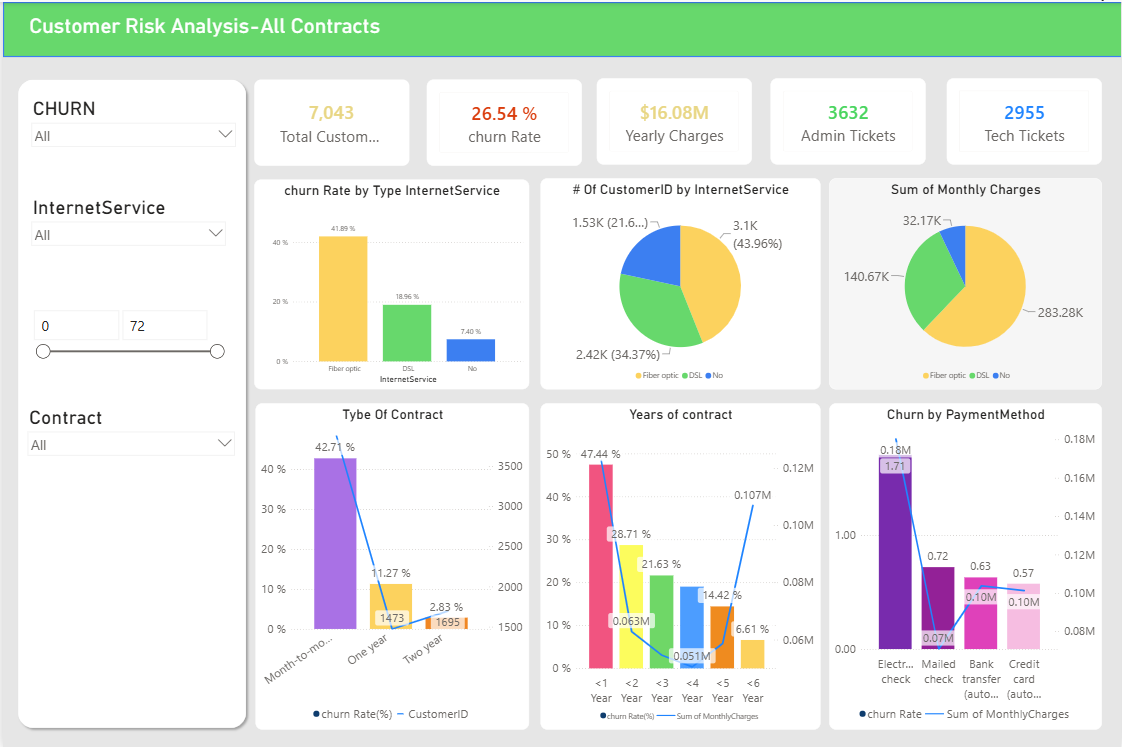

The page's visual inventory and layout, read from the dashboard file:
{"tool":"powerbi","page":{"name":"Customer Risk Analysis ","canvas":[1950,1300],"ordinal":0},"visuals":[{"type":"shape","box":[17,126.2,414.8,1147.5],"z":0},{"type":"cardVisual","fields":{"Data":["Churn-Dataset.Number of Tech Tickets"]},"box":[1644.6,132.9,270,150],"z":1000},{"type":"cardVisual","fields":{"Data":["Churn-Dataset.Total Yearly Charges"]},"box":[1034.7,132.9,270,150],"z":2000},{"type":"cardVisual","fields":{"Data":["Churn-Dataset.churn Rate(%)"]},"box":[738.4,135.1,270,150],"z":3000},{"type":"cardVisual","fields":{"Data":["Churn-Dataset.Total Customers"]},"box":[437.8,135.1,270,150],"z":4000},{"type":"cardVisual","fields":{"Data":["Churn-Dataset.Number of Admin Tickets"]},"box":[1337.5,132.9,270,150],"z":5000},{"type":"pieChart","title":"Sum of Monthly Charges          ","fields":{"Category":["Churn-Dataset.InternetService"],"Y":["Sum(Churn-Dataset.MonthlyCharges)"]},"box":[1439.9,307.1,474.9,368.1],"z":6000},{"type":"pieChart","title":"# Of CustomerID by  InternetService","fields":{"Category":["Churn-Dataset.InternetService"],"Y":["CountNonNull(Churn-Dataset.CustomerID)"]},"box":[936.7,307.1,487.9,368.1],"z":7000},{"type":"columnChart","title":"churn Rate by Type InternetService","fields":{"Y":["Churn-Dataset.churn Rate(%)"],"Category":["Churn-Dataset.InternetService"]},"box":[437.8,309.3,479.2,366],"z":8000},{"type":"lineStackedColumnComboChart","title":"Tybe Of Contract","fields":{"Category":["Churn-Dataset.Contract"],"Y2":["CountNonNull(Churn-Dataset.CustomerID)"],"Y":["Churn-Dataset.churn Rate(%)"]},"box":[440,699.2,477,568.5],"z":9000},{"type":"lineStackedColumnComboChart","title":"Years of contract","fields":{"Y":["Churn-Dataset.churn Rate(%)"],"Category":["Churn-Dataset.Subscription Time"],"Y2":["Sum(Churn-Dataset.MonthlyCharges)"]},"box":[936.7,699.2,487.9,568.5],"z":10000},{"type":"lineStackedColumnComboChart","title":"Churn by PaymentMethod","fields":{"Category":["Churn-Dataset.PaymentMethod"],"Y2":["Sum(Churn-Dataset.MonthlyCharges)"],"Y":["Churn-Dataset.churn Rate(%)"]},"box":[1439.9,699.2,474.9,568.5],"z":11000},{"type":"slicer","fields":{"Values":["Churn-Dataset.Subscription Time"]},"box":[38.8,160.1,376,201.4],"z":12000},{"type":"slicer","fields":{"Values":["Churn-Dataset.InternetService"]},"box":[39.2,333.3,359,194.1],"z":13000},{"type":"slicer","fields":{"Values":["Churn-Dataset.Tenure"]},"box":[41.4,527.1,352.9,244],"z":14000},{"type":"slicer","fields":{"Values":["Churn-Dataset.Contract"]},"box":[32.7,699.2,381.2,222.2],"z":15000},{"type":"shape","box":[0,0,1950.5,96],"z":16000},{"type":"textbox","box":[41.4,19.6,1110.9,91.5],"z":17000}]}

Visuals, with their boxes in screenshot pixels (x1, y1, x2, y2), scaled from the page's 1950x1300 canvas onto the 1122x747 screenshot:
shape: <box>10,73,248,732</box>
cardVisual - Churn-Dataset.Number of Tech Tickets: <box>946,76,1102,163</box>
cardVisual - Churn-Dataset.Total Yearly Charges: <box>595,76,751,163</box>
cardVisual - Churn-Dataset.churn Rate(%): <box>425,78,580,164</box>
cardVisual - Churn-Dataset.Total Customers: <box>252,78,407,164</box>
cardVisual - Churn-Dataset.Number of Admin Tickets: <box>770,76,925,163</box>
"Sum of Monthly Charges          " pieChart: <box>828,176,1102,388</box>
"# Of CustomerID by  InternetService" pieChart: <box>539,176,820,388</box>
"churn Rate by Type InternetService" columnChart: <box>252,178,528,388</box>
"Tybe Of Contract" lineStackedColumnComboChart: <box>253,402,528,728</box>
"Years of contract" lineStackedColumnComboChart: <box>539,402,820,728</box>
"Churn by PaymentMethod" lineStackedColumnComboChart: <box>828,402,1102,728</box>
slicer - Churn-Dataset.Subscription Time: <box>22,92,239,208</box>
slicer - Churn-Dataset.InternetService: <box>23,192,229,303</box>
slicer - Churn-Dataset.Tenure: <box>24,303,227,443</box>
slicer - Churn-Dataset.Contract: <box>19,402,238,529</box>
shape: <box>0,0,1121,55</box>
textbox: <box>24,11,663,64</box>
